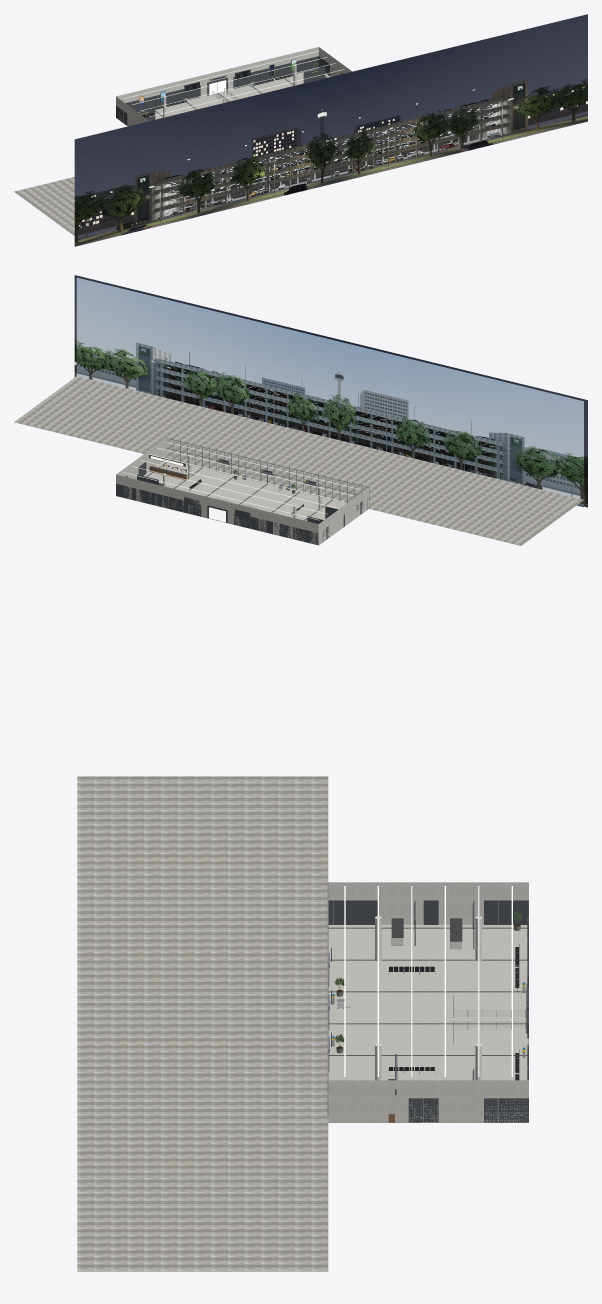
The model's file is airport_arr.glb.
3 renders of one model, top to bottom at view 1: azimuth 30°, elevation 25°; view 2: azimuth 150°, elevation 25°; view 3: azimuth 270°, elevation 25°, orthographic. The views are drawn at different scales.
Visible parts, largest first — view 1: GLOW_ap_outside_night, WALL_ap_walls, ap_panels, ap_outside_walk, ap_floor, GLOW_ap_downlights; view 2: GLOW_ap_outside, ap_outside_walk, WALL_ap_walls, ap_floor, ap_panels, ap_glass, GLOW_ap_outside_night, GLOW_ap_downlights, ap_mullions; view 3: ap_outside_walk, ap_floor, WALL_ap_walls, ap_panels, GLOW_ap_downlights, ap_floor_bands, ap_columns.
Part boxes in pixels (left/top/right/bottom): GLOW_ap_outside_night: left=74, top=14, right=587, bottom=246; WALL_ap_walls: left=116, top=47, right=351, bottom=126; ap_panels: left=116, top=56, right=342, bottom=125; ap_outside_walk: left=14, top=177, right=74, bottom=235; ap_floor: left=121, top=68, right=330, bottom=125; GLOW_ap_downlights: left=124, top=51, right=344, bottom=116; GLOW_ap_outside: left=76, top=277, right=583, bottom=507; ap_outside_walk: left=14, top=376, right=583, bottom=545; WALL_ap_walls: left=116, top=438, right=368, bottom=545; ap_floor: left=116, top=461, right=366, bottom=545; ap_panels: left=116, top=454, right=367, bottom=544; ap_glass: left=166, top=439, right=366, bottom=502; GLOW_ap_outside_night: left=74, top=275, right=587, bottom=507; GLOW_ap_downlights: left=124, top=442, right=360, bottom=520; ap_mullions: left=166, top=438, right=369, bottom=508; ap_outside_walk: left=77, top=776, right=328, bottom=1271; ap_floor: left=328, top=924, right=528, bottom=1122; WALL_ap_walls: left=328, top=882, right=528, bottom=1122; ap_panels: left=328, top=900, right=528, bottom=1122; GLOW_ap_downlights: left=344, top=886, right=512, bottom=1076; ap_floor_bands: left=328, top=927, right=527, bottom=1055; ap_columns: left=375, top=916, right=481, bottom=1080.
Bounding box in the file's own units: 142 × 28.33 × 54.5.
Materials: 24 (14 with a texture image).
